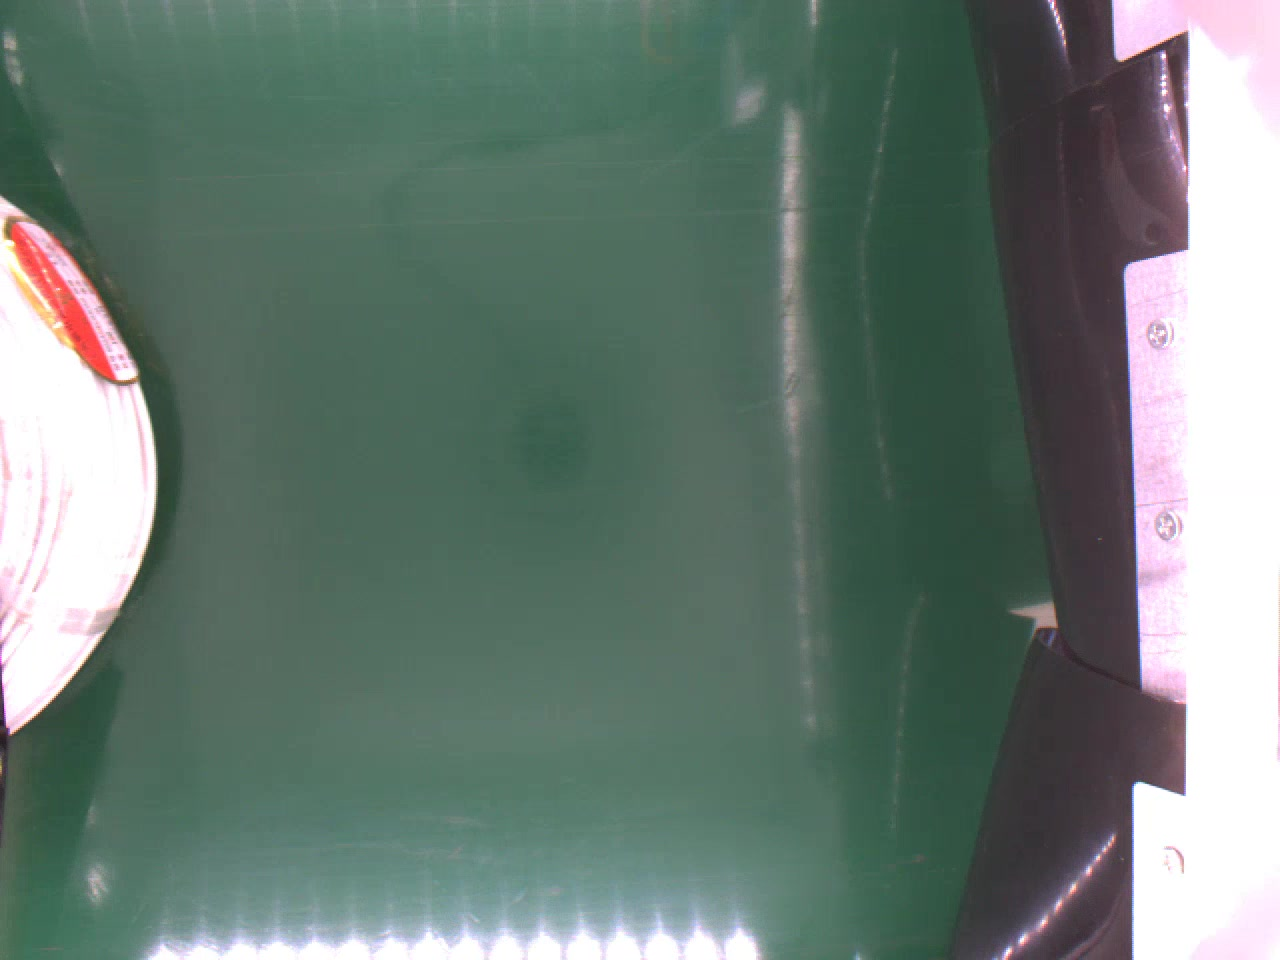white: (0, 198, 165, 732)
